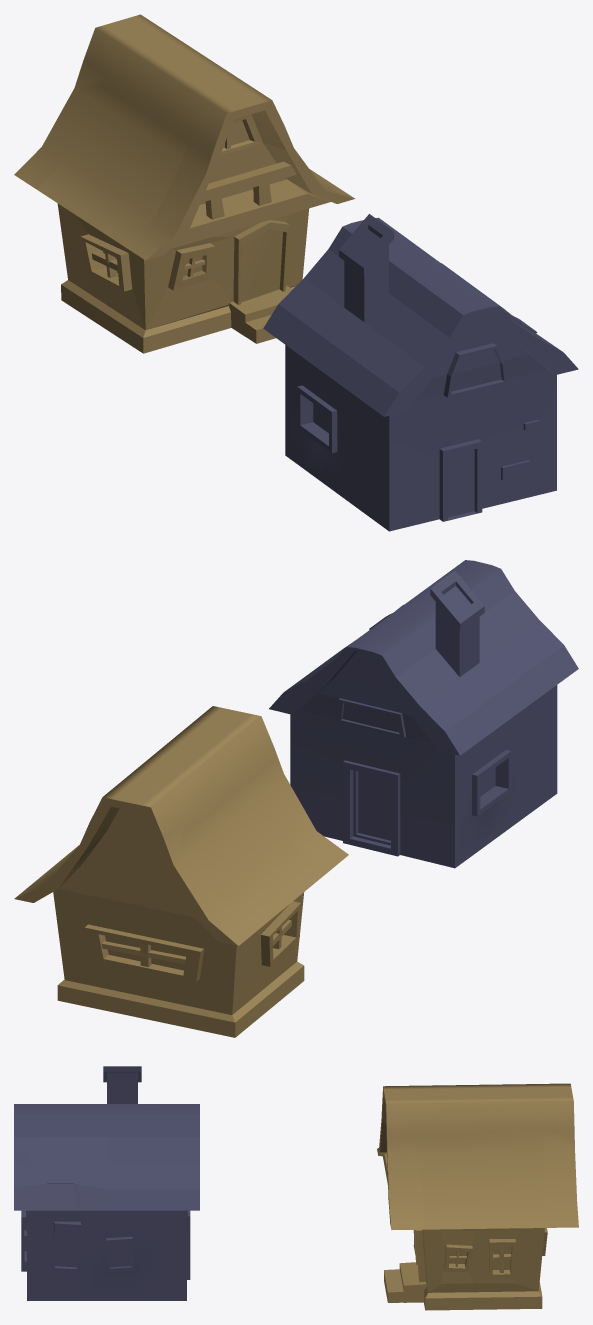
File: placeholders03.fbx
The picture shows the model from 3 angles, top to bottom: view 1: azimuth 30°, elevation 25°; view 2: azimuth 150°, elevation 25°; view 3: azimuth 270°, elevation 25°; orthographic projection. The views are drawn at different scales.
Parts seen in each view (by area): view 1: hus3, hus4; view 2: hus3, hus4; view 3: hus3, hus4.
Boxes of the visible parts, x1,y1,x2,y2 form: hus3: (14, 14, 355, 353); hus4: (263, 214, 578, 531); hus3: (14, 706, 348, 1037); hus4: (269, 560, 578, 868); hus3: (377, 1083, 578, 1310); hus4: (14, 1066, 199, 1300).
Bounding box in the file's own units: 10.43 × 11.26 × 29.02.
